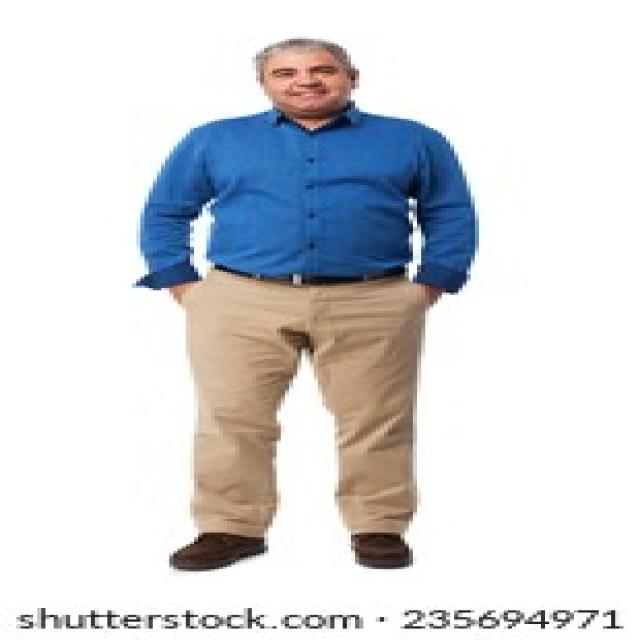standing: (124, 31, 481, 573)
